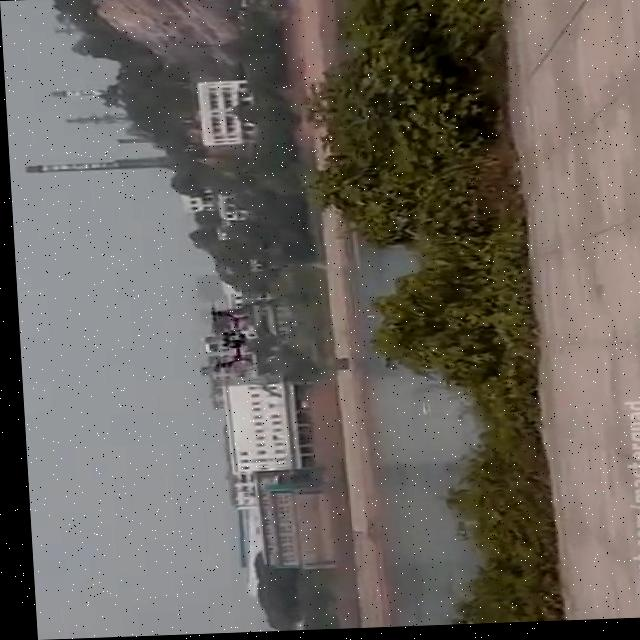drone: (192, 298, 252, 380)
